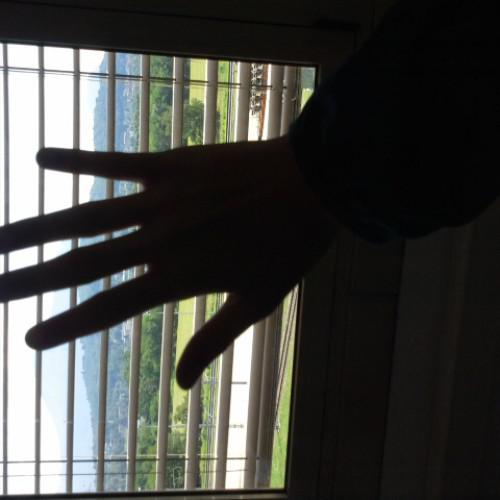paper: (1, 132, 324, 391)
